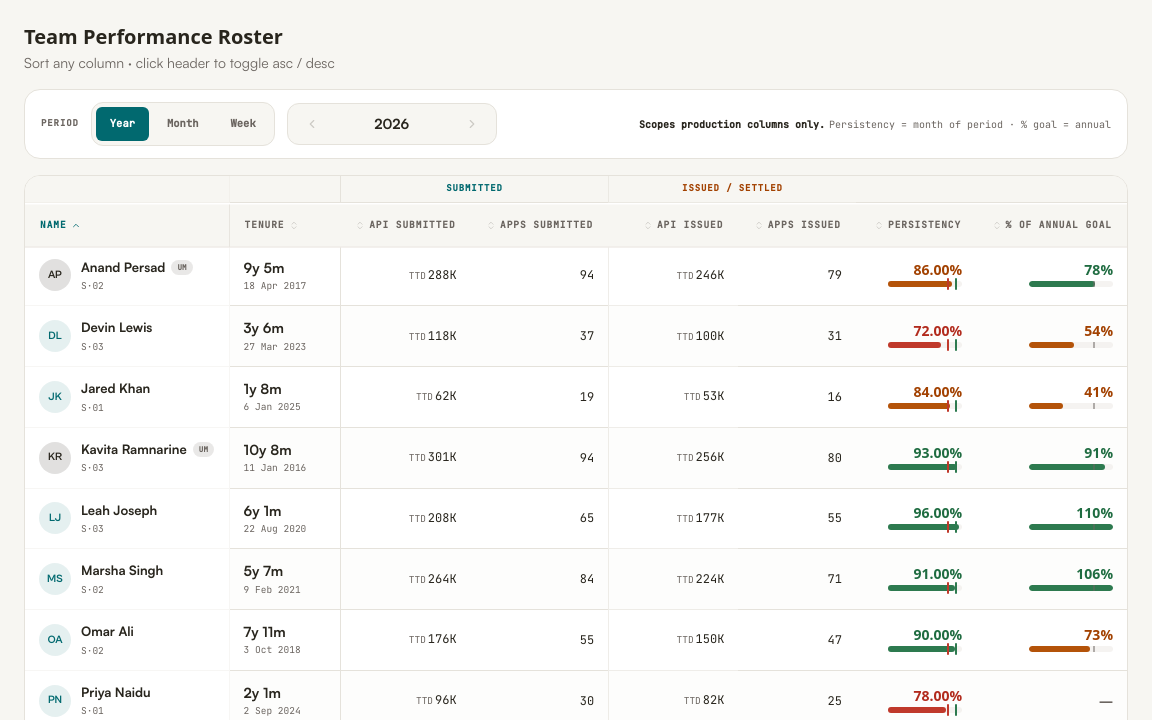
TeamPerfRosterPage › changes period grain to Month on pill click
Click the button with test id "grain-month".
click(183, 124)  # box x1=153 y1=107 x2=212 y2=141
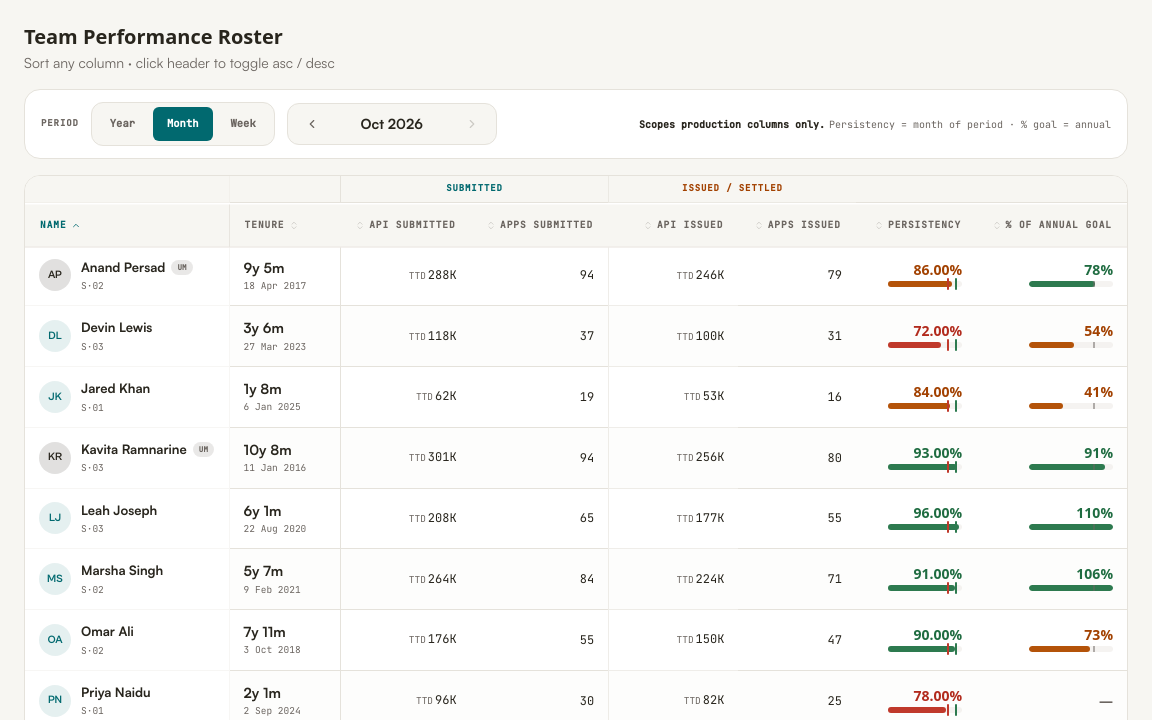
expect the text with test id "period-value" reads "Oct 2026": met, box x1=361 y1=115 x2=423 y2=132
